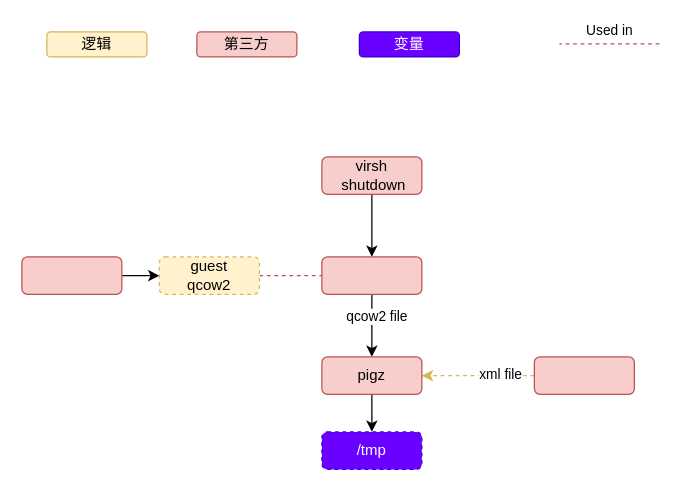
Some shapes in this 683 by 491 pixel diagram are drawn without their labels. Here are the shapes that lost their labels. From the top down, the box of each, then its label:
(21, 256, 122, 294): virsh domblklist
(321, 256, 422, 294): virt sparsify
(533, 356, 634, 394): virsh dumpxml
